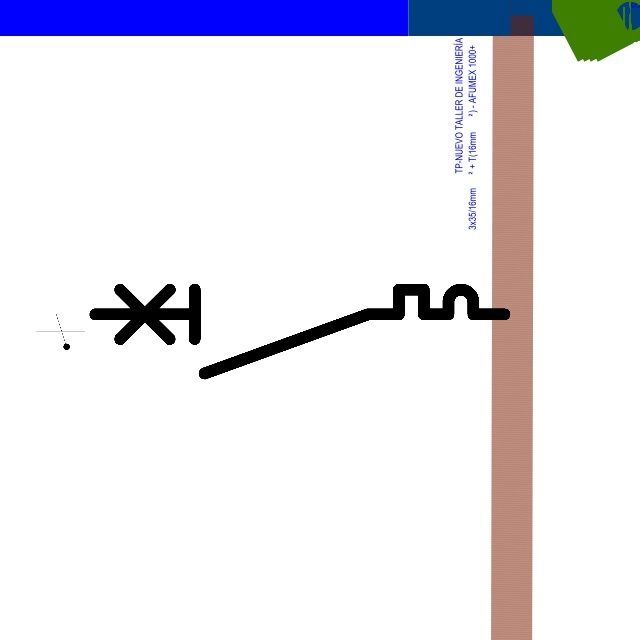interruptor_termomagnetico: (84, 279, 515, 384)
